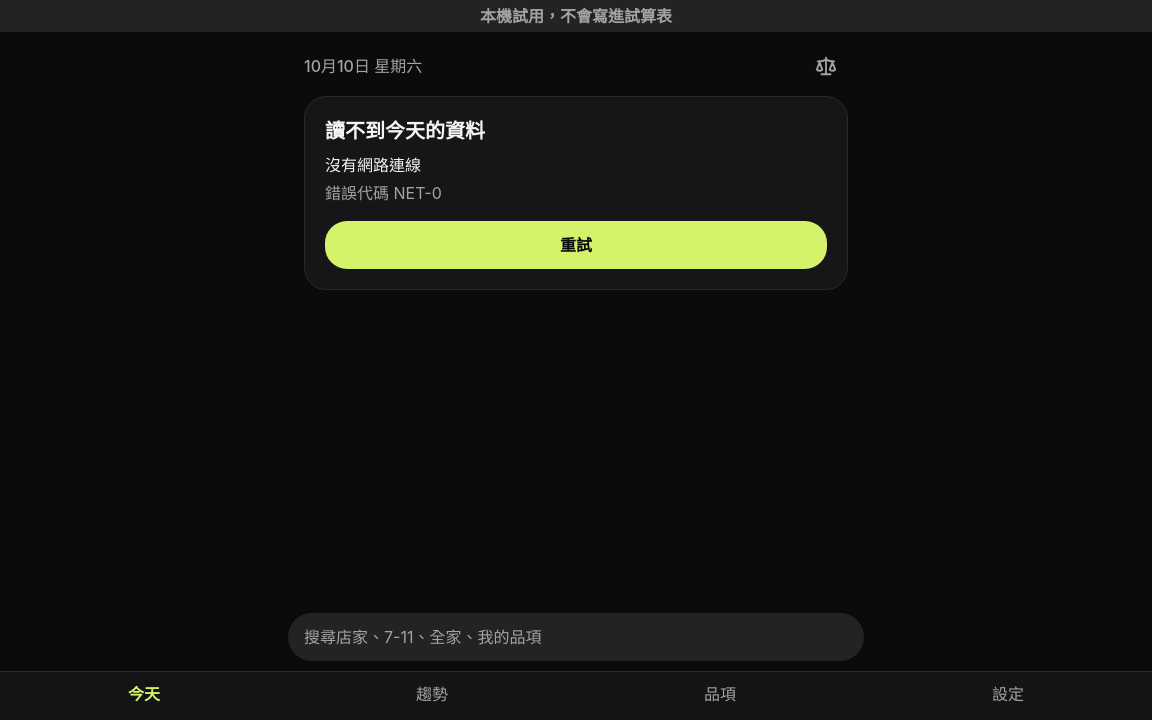
Test: 完整品項不會先出補營養素步
Click the button "搜尋店家、7-11、全家、我的品項" at (423, 637), box [288,613,864,661]
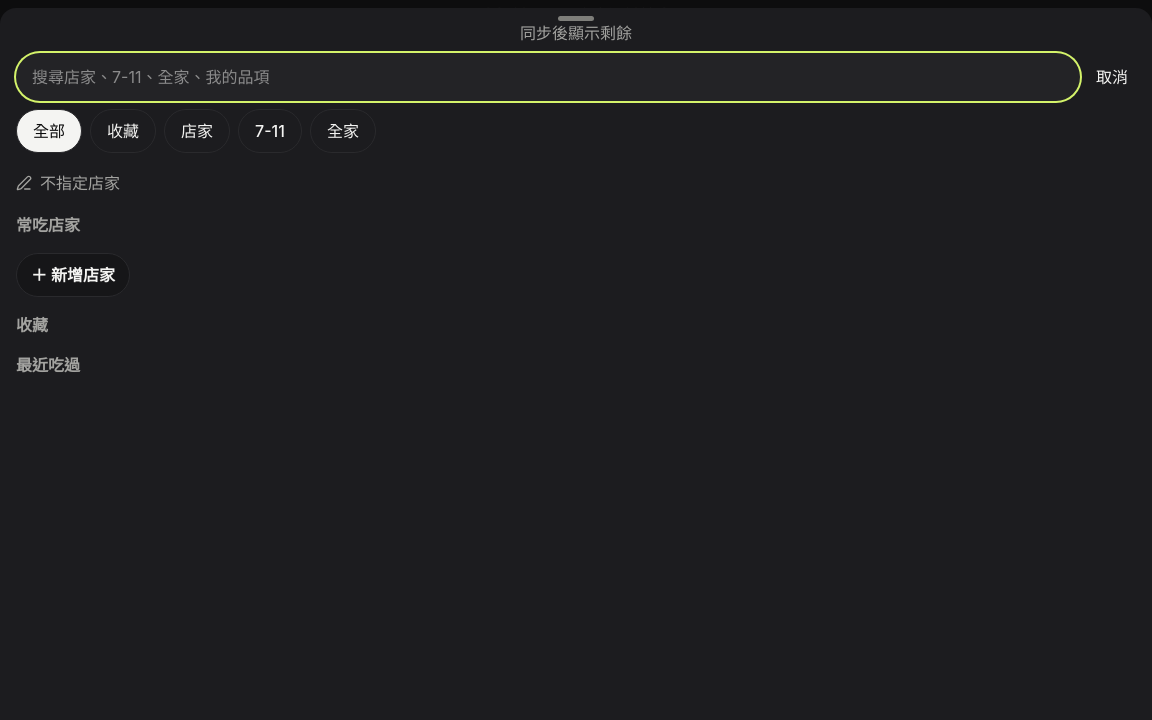
Type "雞胸" into the search field at (548, 77), box [16,53,1080,101]
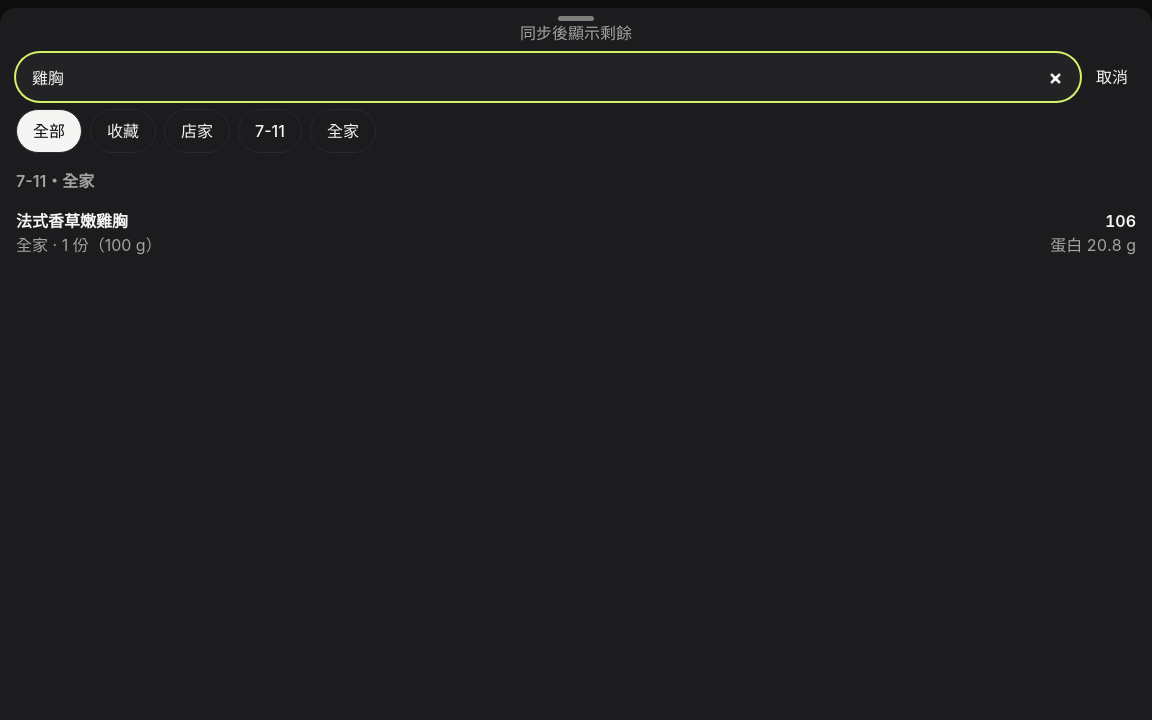
Click the text "法式香草嫩雞胸" at (72, 221), box [16,211,128,231]
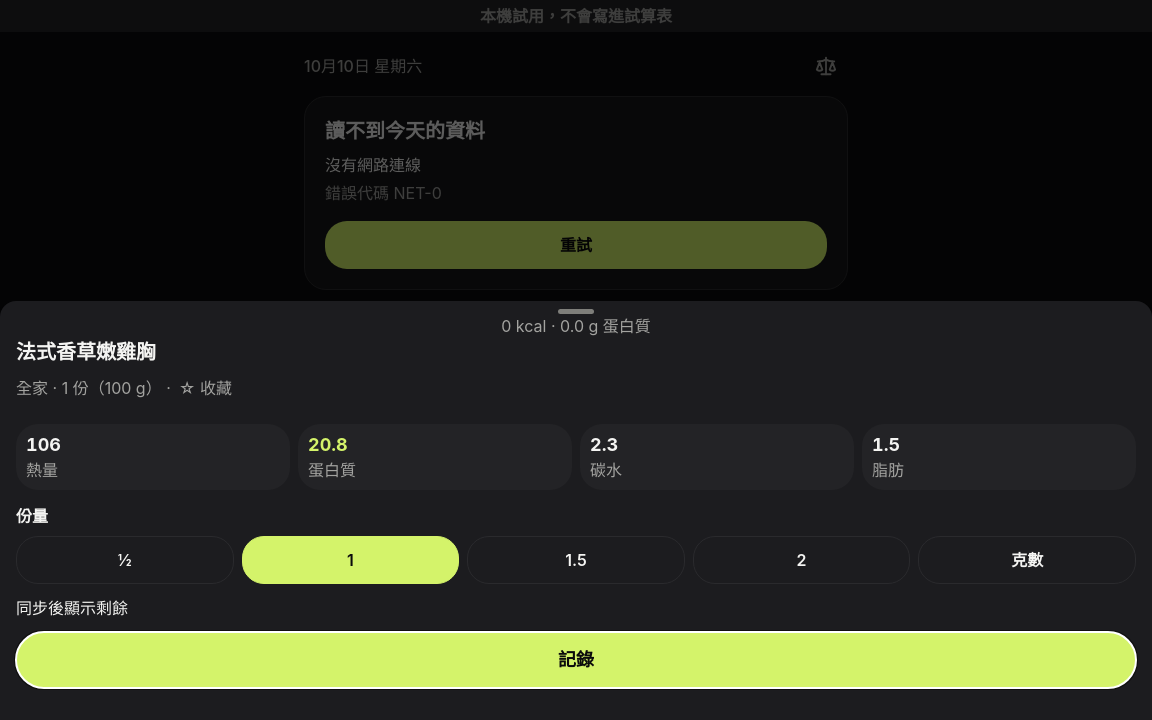
Check: the button "記錄" is shown, box [16,632,1136,688]
